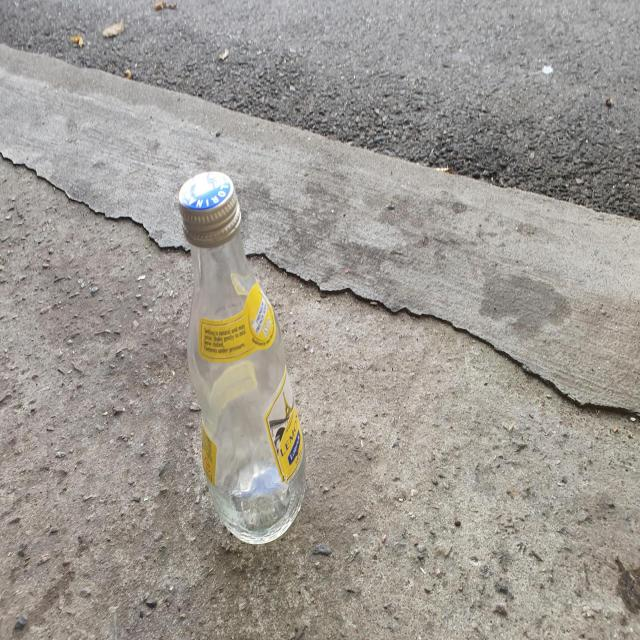glass: (178, 170, 306, 544)
